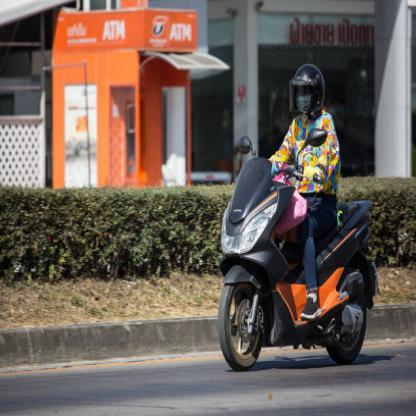Motorcycle: (213, 146, 376, 380)
